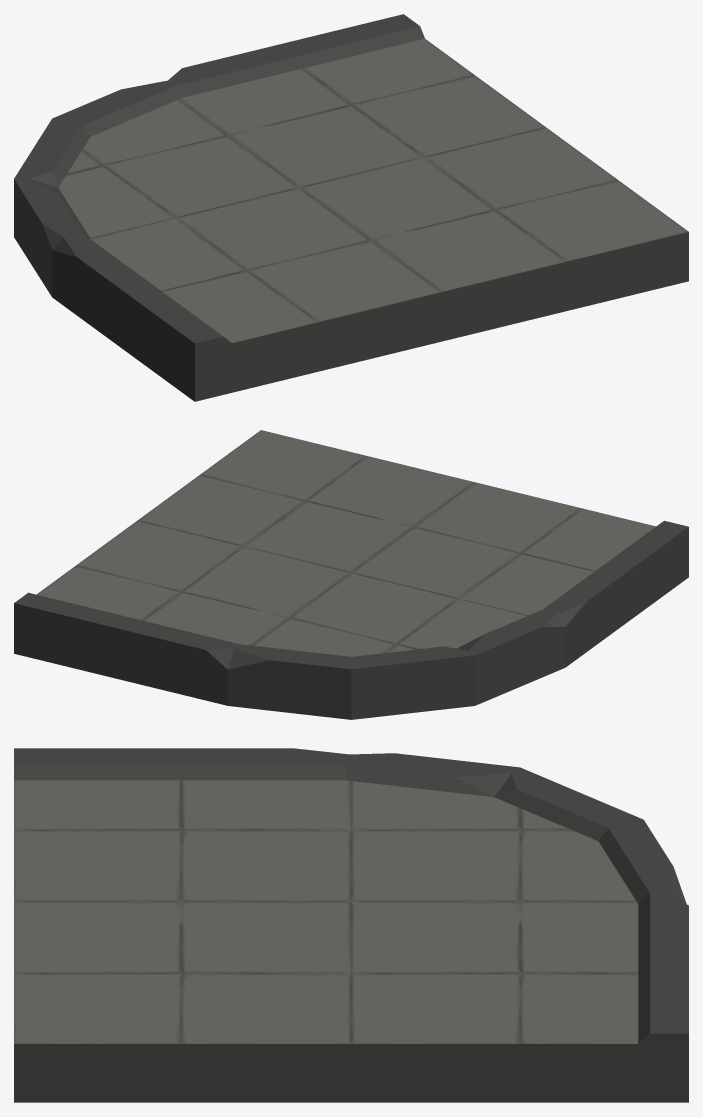
File: Sidewalk_Corner_01.fbx
The picture shows the model from 3 angles, top to bottom: view 1: azimuth 30°, elevation 25°; view 2: azimuth 150°, elevation 25°; view 3: azimuth 270°, elevation 25°; orthographic projection. The views are drawn at different scales.
Visible parts, largest first — view 1: Sidewalk_Corner_01; view 2: Sidewalk_Corner_01; view 3: Sidewalk_Corner_01.
Part boxes in pixels (x1,y1,x2,y2): Sidewalk_Corner_01: (14,14,688,401); Sidewalk_Corner_01: (14,430,688,719); Sidewalk_Corner_01: (14,748,688,1102).
Size of the model in its own units: 3 by 0.3387 by 3.
